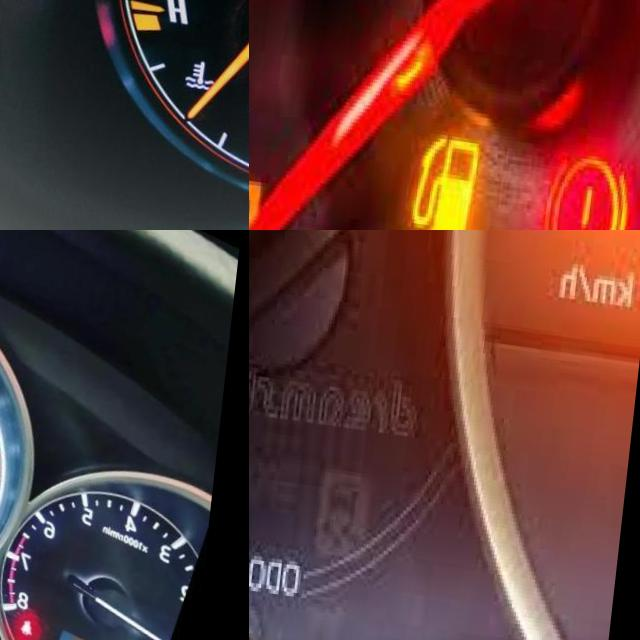Seat Belt: (32, 604, 46, 624)
